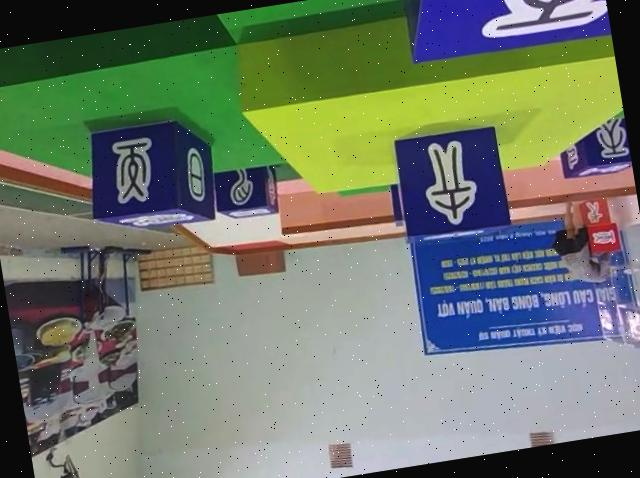R2 Fake Blue: (78, 113, 221, 238), (386, 119, 512, 244), (402, 0, 612, 67), (553, 113, 633, 180), (211, 160, 283, 221)
